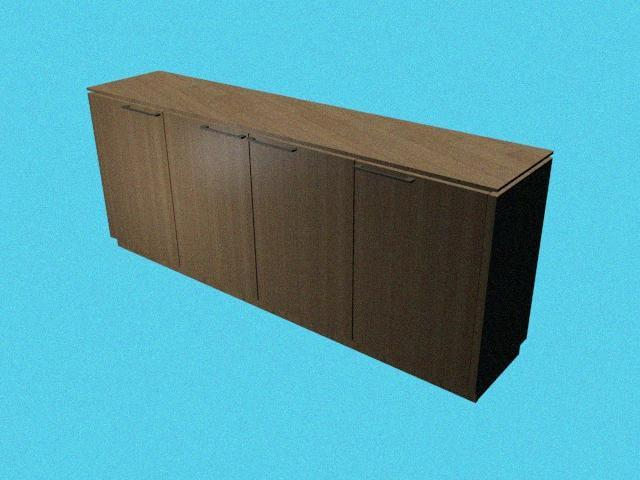cabinet_door: (353, 178, 478, 366), (253, 147, 353, 320), (172, 124, 254, 282), (102, 104, 172, 252)
handle: (354, 161, 420, 190), (249, 134, 301, 158), (119, 99, 165, 122), (198, 123, 249, 143)
